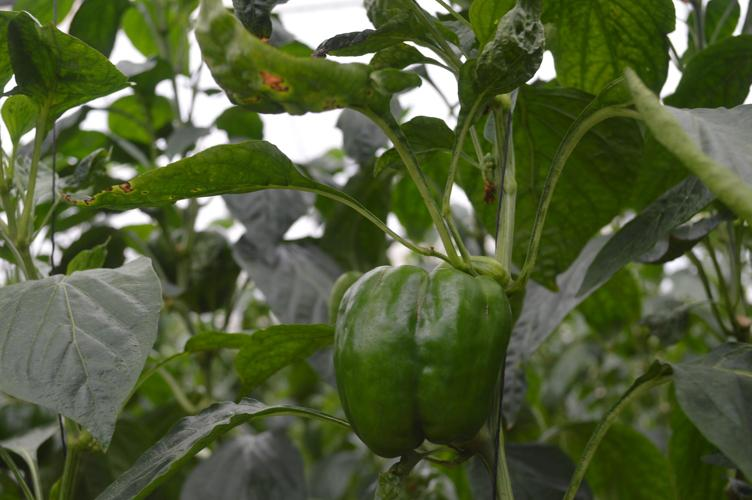BellPepper: (343, 268, 509, 447)
